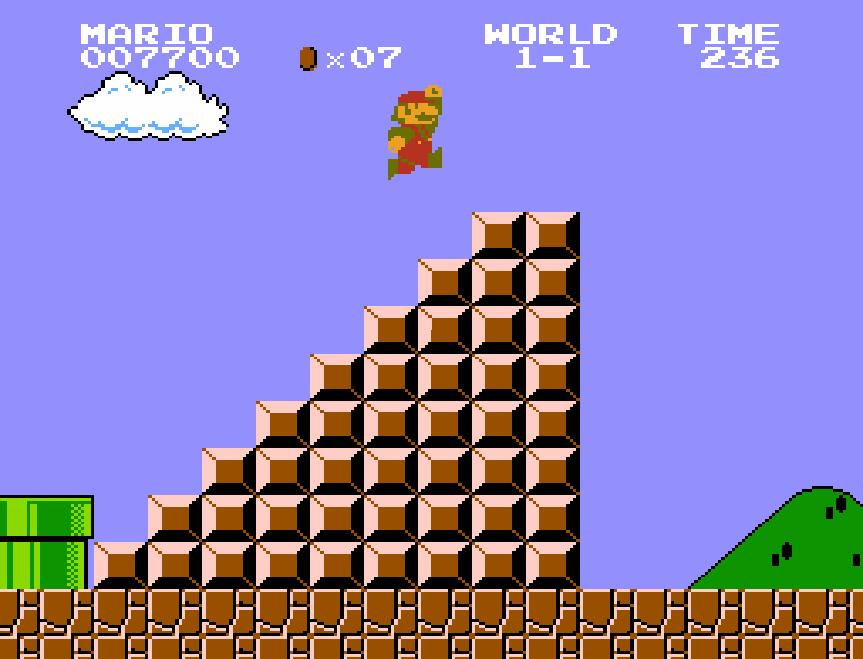big_mario: (386, 82, 444, 181)
